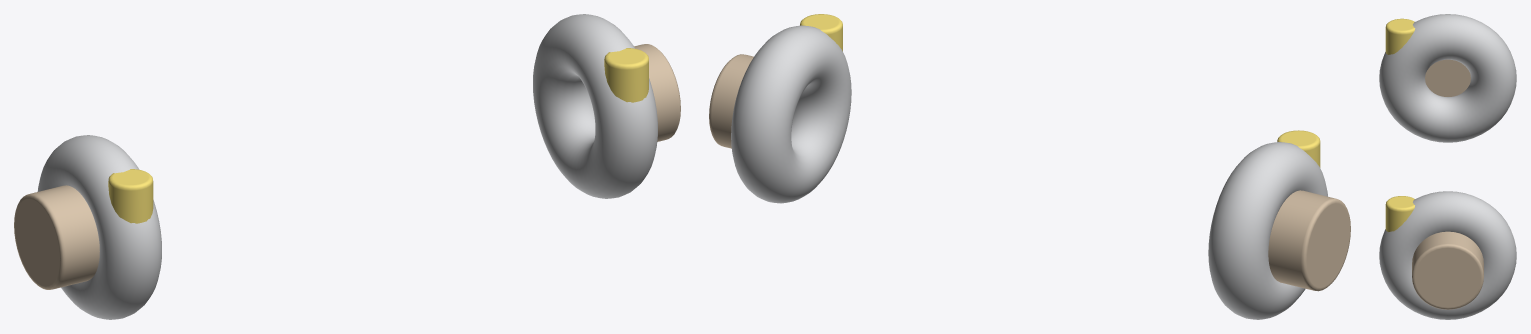
File: turbochargers.glb
3 renders of one model, left to right at view 1: azimuth 30°, elevation 25°; view 2: azimuth 150°, elevation 25°; view 3: azimuth 270°, elevation 25°, orthographic. The views are drawn at different scales.
Visible parts, largest first — view 1: TURBO_COMPRESSOR_R, TURBO_COMPRESSOR_L, TURBO_TURBINE_L, TURBO_TURBINE_R, WASTEGATE_L, WASTEGATE_R; view 2: TURBO_COMPRESSOR_R, TURBO_COMPRESSOR_L, TURBO_TURBINE_L, TURBO_TURBINE_R, WASTEGATE_L, WASTEGATE_R; view 3: TURBO_COMPRESSOR_L, TURBO_COMPRESSOR_R, TURBO_TURBINE_R, TURBO_TURBINE_L, WASTEGATE_L, WASTEGATE_R.
Boxes of the visible parts, <box> form: TURBO_COMPRESSOR_R: <box>533,14,657,198</box>; TURBO_COMPRESSOR_L: <box>37,135,161,319</box>; TURBO_TURBINE_L: <box>14,185,99,289</box>; TURBO_TURBINE_R: <box>634,44,680,141</box>; WASTEGATE_L: <box>108,169,153,223</box>; WASTEGATE_R: <box>604,48,648,102</box>; TURBO_COMPRESSOR_R: <box>731,25,851,203</box>; TURBO_COMPRESSOR_L: <box>1208,142,1327,319</box>; TURBO_TURBINE_L: <box>1268,190,1350,291</box>; TURBO_TURBINE_R: <box>709,54,753,148</box>; WASTEGATE_L: <box>1277,130,1320,167</box>; WASTEGATE_R: <box>800,14,842,51</box>; TURBO_COMPRESSOR_L: <box>1379,14,1516,142</box>; TURBO_COMPRESSOR_R: <box>1379,191,1516,319</box>; TURBO_TURBINE_R: <box>1412,231,1483,309</box>; TURBO_TURBINE_L: <box>1425,59,1470,96</box>; WASTEGATE_L: <box>1385,18,1415,54</box>; WASTEGATE_R: <box>1385,196,1414,231</box>.
Size of the model in its own units: 0.8 by 0.21 by 0.21.
